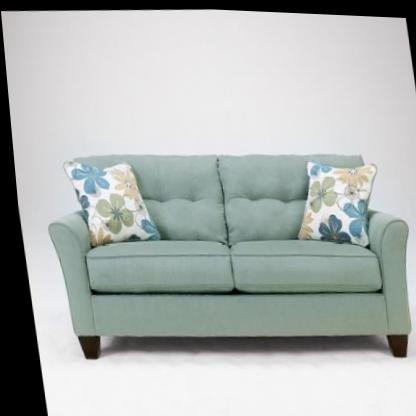Sofa: (29, 135, 416, 376)
